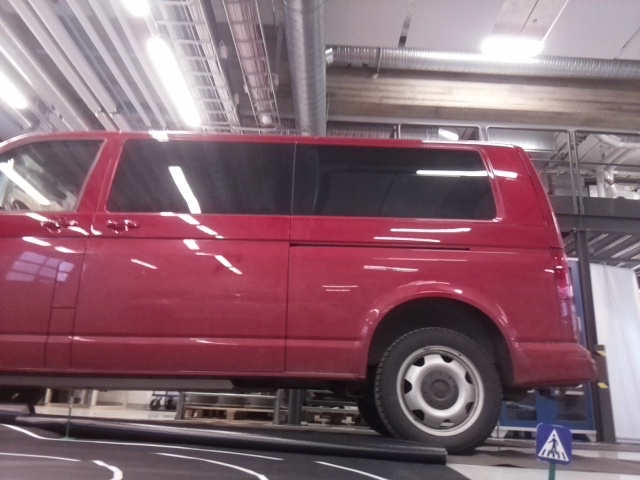Crosswalk: (537, 419, 571, 465)
